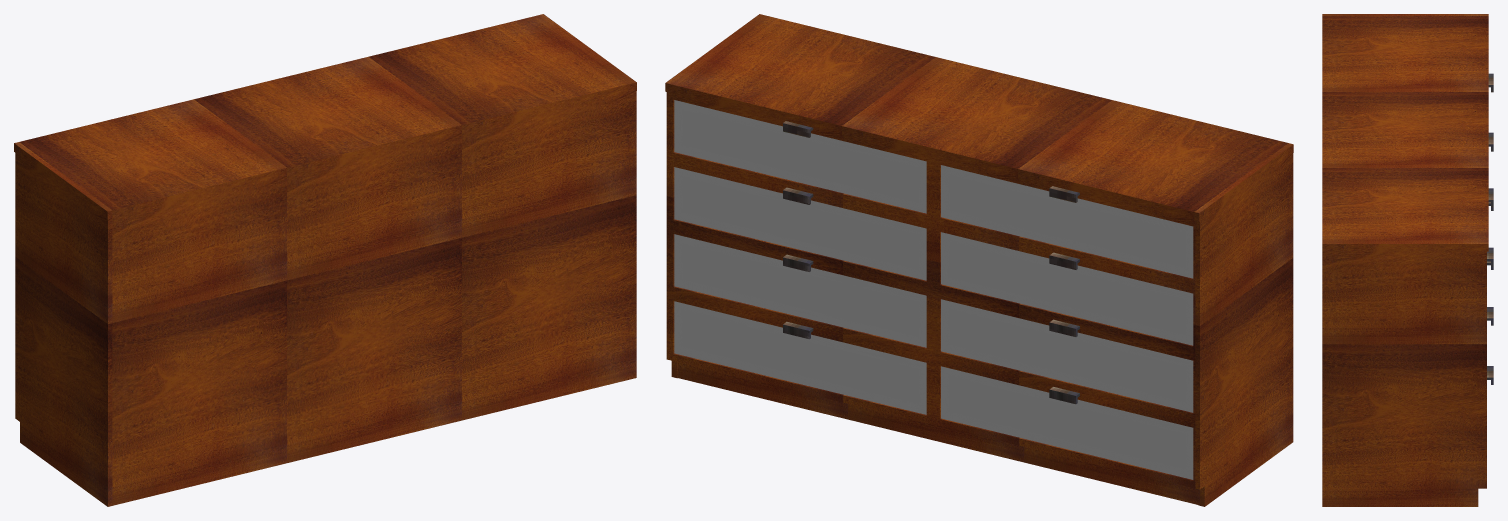
3 views of the same model, side by side, from view 1: azimuth 30°, elevation 25°; view 2: azimuth 150°, elevation 25°; view 3: azimuth 270°, elevation 25° (orthographic). The views are drawn at different scales.
Parts seen in each view (by area): view 1: mesh1_mesh1-geometry; view 2: mesh1_mesh1-geometry; view 3: mesh1_mesh1-geometry.
Boxes of the visible parts, x1,y1,x2,y2 form: mesh1_mesh1-geometry: (14, 14, 636, 506); mesh1_mesh1-geometry: (665, 14, 1293, 506); mesh1_mesh1-geometry: (1322, 14, 1493, 506).
Size of the model in its own units: 0.8501 by 0.4534 by 0.2678.
